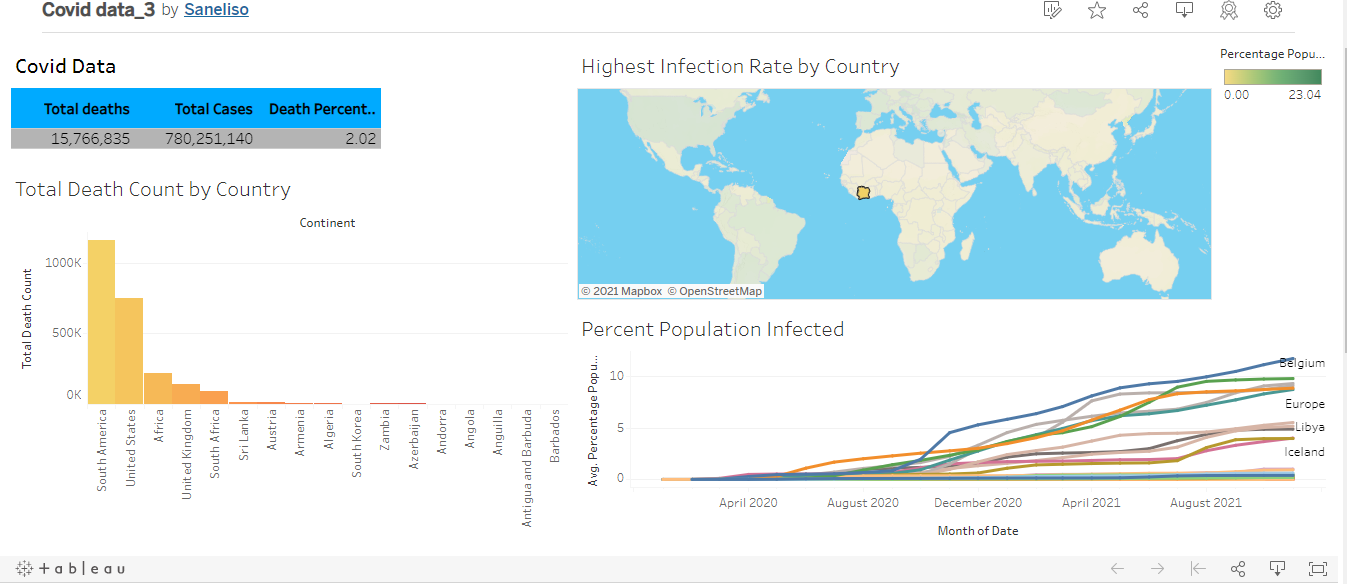

This screenshot's page, from the dashboard's own definition file:
{"tool":"tableau","page":{"name":"Dashboard 1","canvas":[1000,1000],"units":"permille","ordinal":0},"visuals":[{"type":"worksheet","title":"Sheet 1","mark":"Automatic","box":[6.7,13.5,507.5,252.5]},{"type":"worksheet","title":"Sheet 3","mark":"Automatic","box":[514.2,13.5,395.4,505.1]},{"type":"legend","title":"Sheet 3","param":"[federated.0wh5ai71nc1auo11pjm9s0liozv2].[sum:PercentagePopulationInfected:qk]","box":[909.6,13.5,83.7,109.8]},{"type":"worksheet","title":"Sheet 2","mark":"Automatic","rows":["TotalDeathCount"],"cols":["location"],"box":[6.7,266.1,507.5,252.5]},{"type":"worksheet","title":"Sheet 4","mark":"Automatic","rows":["PercentagePopulationInfected"],"cols":["Date"],"box":[6.7,518.6,864.4,467.9]},{"type":"legend","title":"Sheet 4","param":"[federated.0ytssuq1gjjoqv19ewb300cruk5p].[none:location:nk]","box":[871,518.6,122.3,467.9]}]}

Visuals, with their boxes on the dashboard's canvas, which has no fixed pixel size, in thousandths of its width and height (x1, y1, x2, y2). These are canvas units, not pixel positions in the 1347x584 screenshot, which may show the page scaled, cropped or inside an application window:
"Sheet 1" worksheet: x1=7, y1=14, x2=514, y2=266
"Sheet 3" worksheet: x1=514, y1=14, x2=910, y2=519
"Sheet 3" legend: x1=910, y1=14, x2=993, y2=123
"Sheet 2" worksheet: x1=7, y1=266, x2=514, y2=519
"Sheet 4" worksheet: x1=7, y1=519, x2=871, y2=986
"Sheet 4" legend: x1=871, y1=519, x2=993, y2=986
